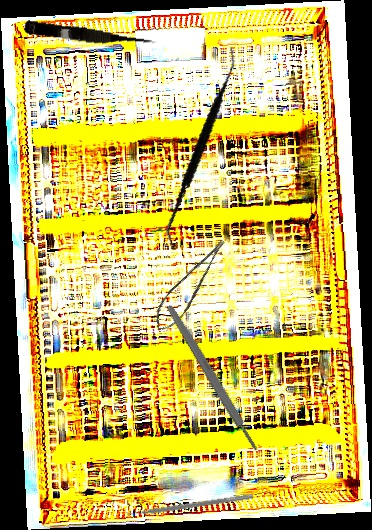Micro Scissor: (144, 236, 241, 337), (22, 19, 159, 54)
Scalpel Handle: (164, 302, 261, 454)
Spatula Surgical: (130, 45, 275, 250), (124, 488, 254, 519)
